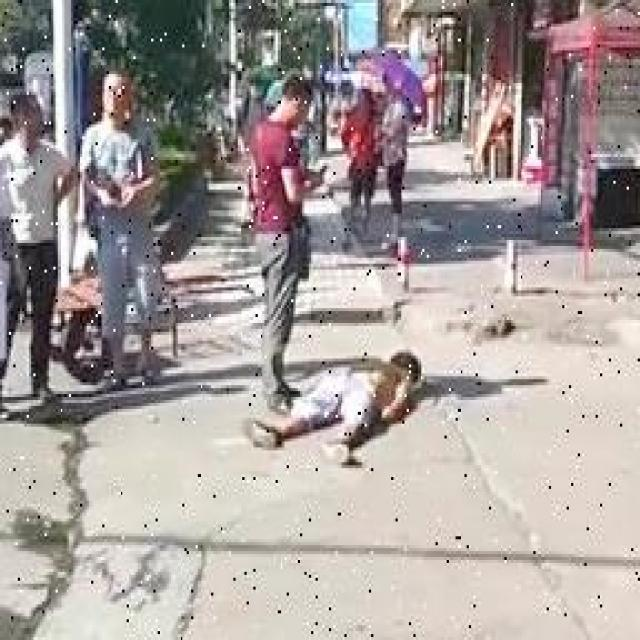fall: (260, 344, 427, 456)
